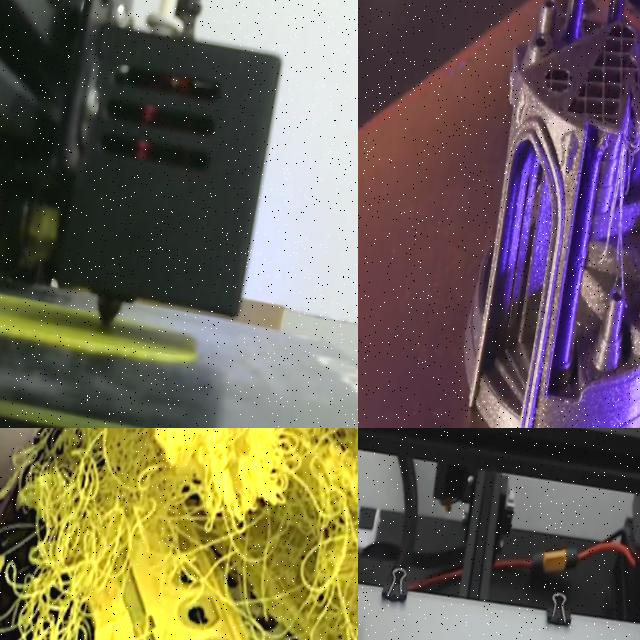spaghetti: (0, 428, 358, 640), (606, 0, 640, 174)
